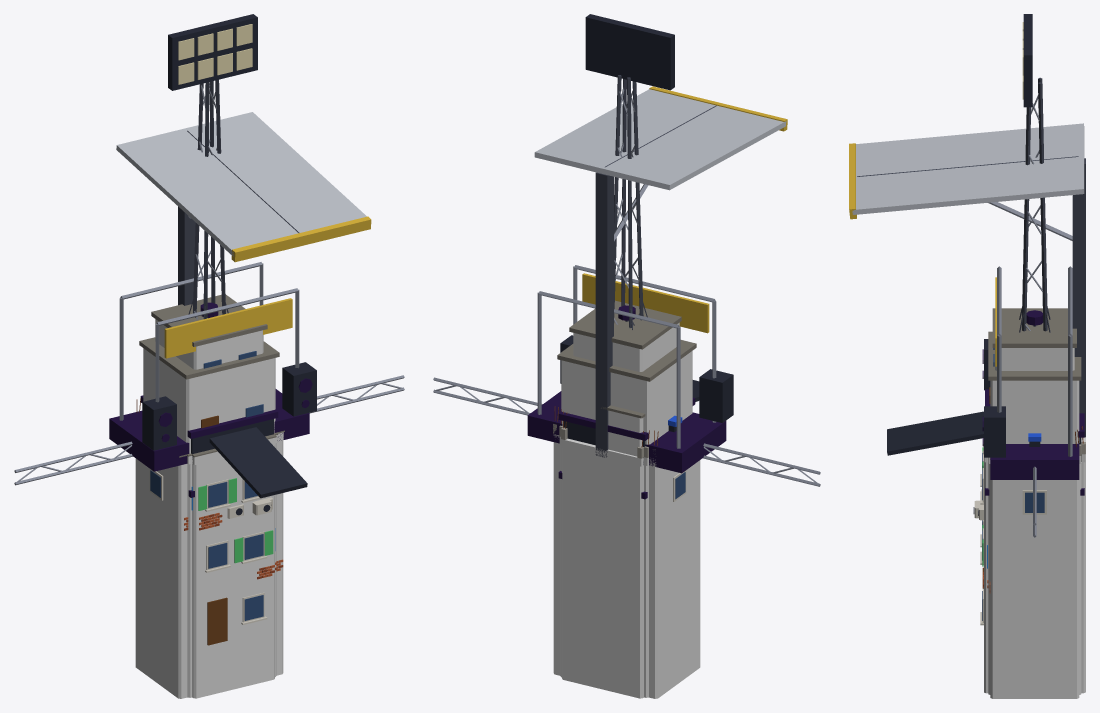
The model's file is arena-l_NmFubv.glb.
3 views of the same model, side by side, from view 1: azimuth 30°, elevation 25°; view 2: azimuth 150°, elevation 25°; view 3: azimuth 270°, elevation 25° (orthographic).
Parts seen in each view (by area): view 1: mundial/roof, mundial/stage, bairro/house2, bairro/house1, mundial/tower, bairro/hut2, bairro/house2/trim, cidade/truss, bairro/house2/glass, bairro/hut1, bairro/house0, nacional/cube (+2 smaller); view 2: bairro/house2, mundial/roof, bairro/house1, mundial/stage, mundial/tower, bairro/hut2, bairro/hut1/trim, bairro/hut1, cidade/truss, bairro/house0, bairro/hut2/trim, nacional/cube; view 3: mundial/roof, bairro/house1, mundial/stage, bairro/hut2, mundial/tower, bairro/hut1/trim, bairro/house2, bairro/hut1, bairro/house0, bairro/hut2/trim, bairro/house2/trim, nacional/cube.
Part boxes in pixels (x1,y1,x2,y2): mundial/roof: (116,112,371,305); mundial/stage: (109,262,316,498); bairro/house2: (192,437,275,698); bairro/house1: (135,432,283,698); mundial/tower: (168,14,257,319); bairro/hut2: (143,348,275,453); bairro/house2/trim: (192,434,276,645); cidade/truss: (14,375,404,485); bairro/house2/glass: (208,481,263,620); bairro/hut1: (155,319,263,369); bairro/house0: (187,435,277,697); nacional/cube: (140,299,278,497); bairro/house2: (561,410,643,698); mundial/roof: (534,86,787,457); bairro/house1: (553,434,700,698); mundial/stage: (527,265,733,473); mundial/tower: (585,14,674,327); bairro/hut2: (561,351,692,444); bairro/hut1/trim: (569,300,681,349); bairro/hut1: (573,322,679,371); cidade/truss: (433,377,820,486); bairro/house0: (559,436,648,697); bairro/hut2/trim: (557,340,696,381); nacional/cube: (558,302,695,499); mundial/roof: (849,123,1085,437); bairro/house1: (990,480,1079,698); mundial/stage: (887,266,1079,479); bairro/hut2: (990,380,1079,443); mundial/tower: (1022,14,1047,331); bairro/hut1/trim: (992,308,1076,347); bairro/house2: (984,437,1085,693); bairro/hut1: (995,348,1074,370); bairro/house0: (988,456,1081,694); bairro/hut2/trim: (988,331,1081,403); bairro/house2/trim: (973,426,1085,625); nacional/cube: (985,306,1084,495).
Size of the model in its own units: 20.03 by 31.8 by 10.67.
